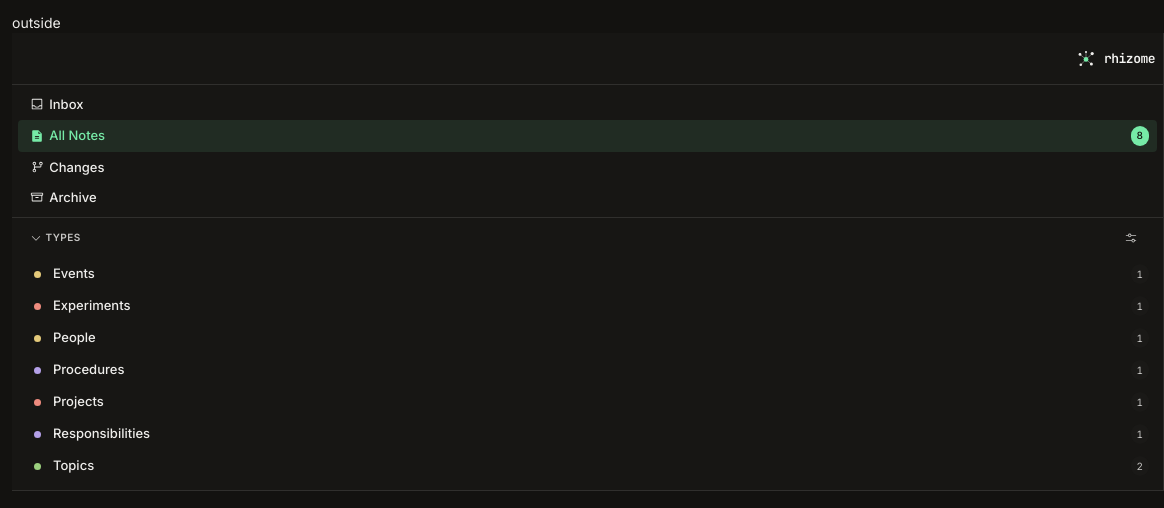
Sidebar › type visibility via visible property › closes popover when clicking outside
Click the button titled "Customize sections" at (1131, 238), box left=1118, top=226, right=1143, bottom=250
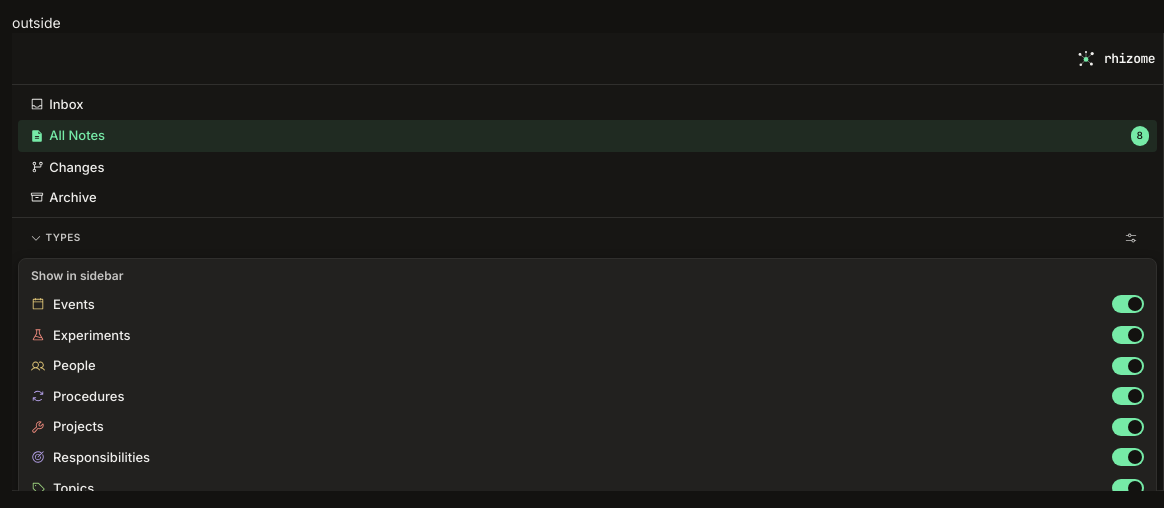
expect the text "Show in sidebar" is shown: met, box left=31, top=268, right=124, bottom=283
Press the mouse on the text with test id "outside" at (36, 22), box left=12, top=14, right=61, bottom=31
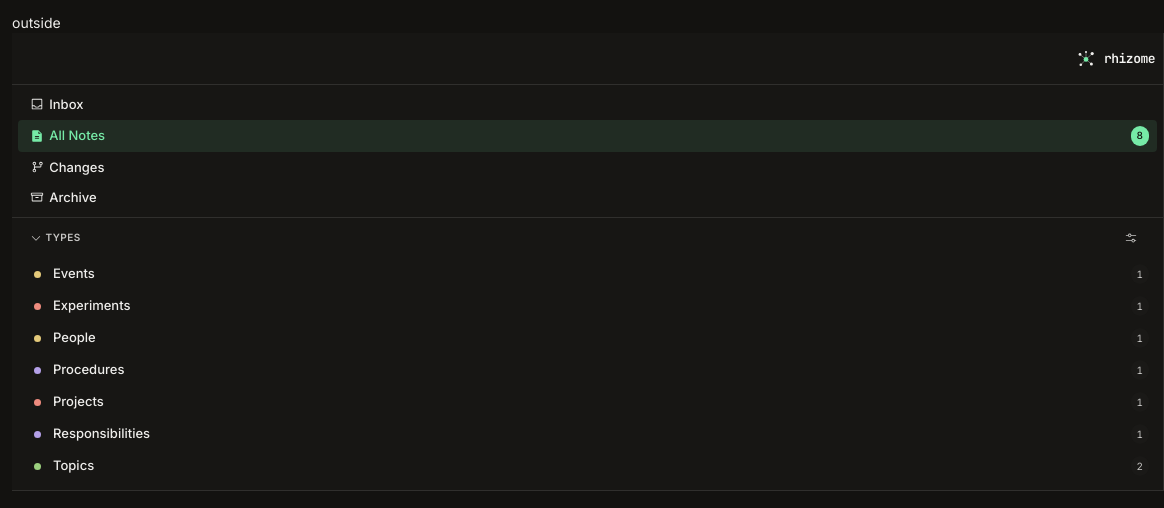
expect the text "Show in sidebar" is gone: met
